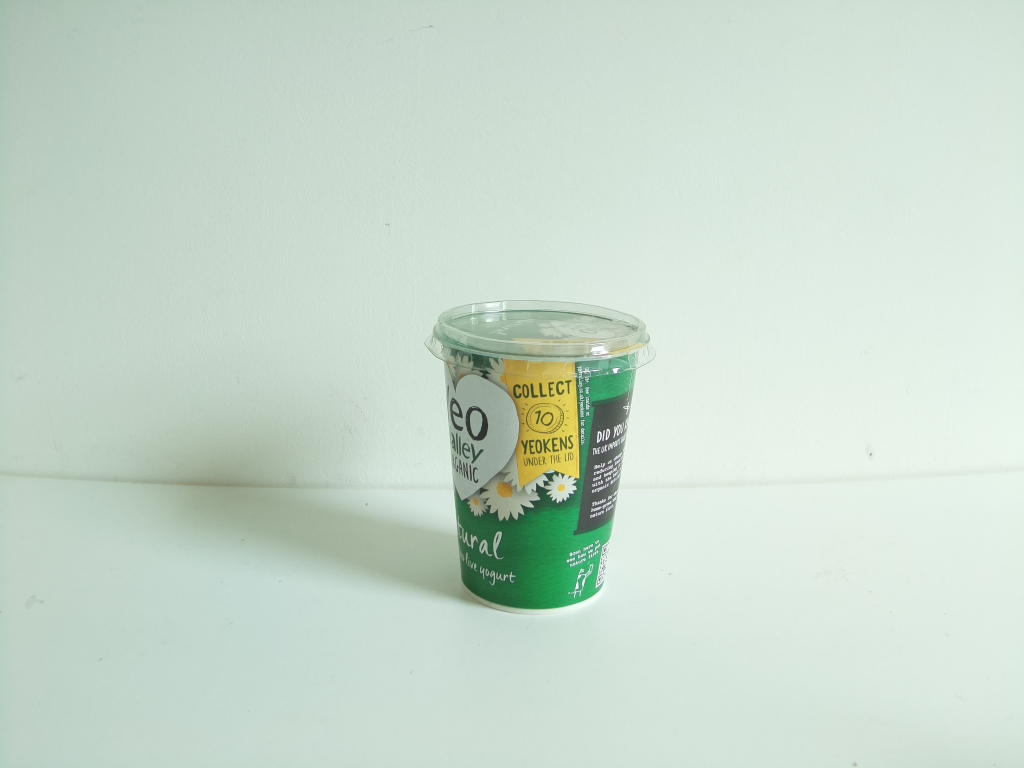yogurt: (419, 296, 654, 621)
